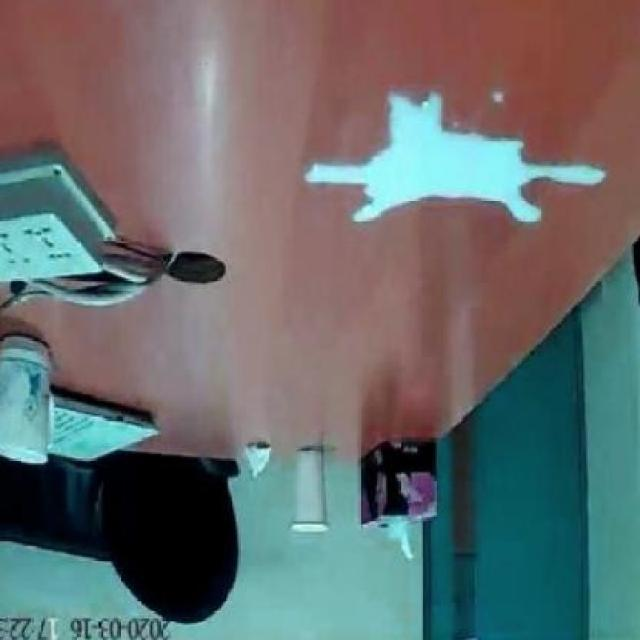spillage: (301, 82, 608, 225)
